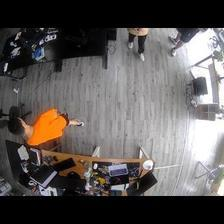normal: (10, 108, 84, 145)
